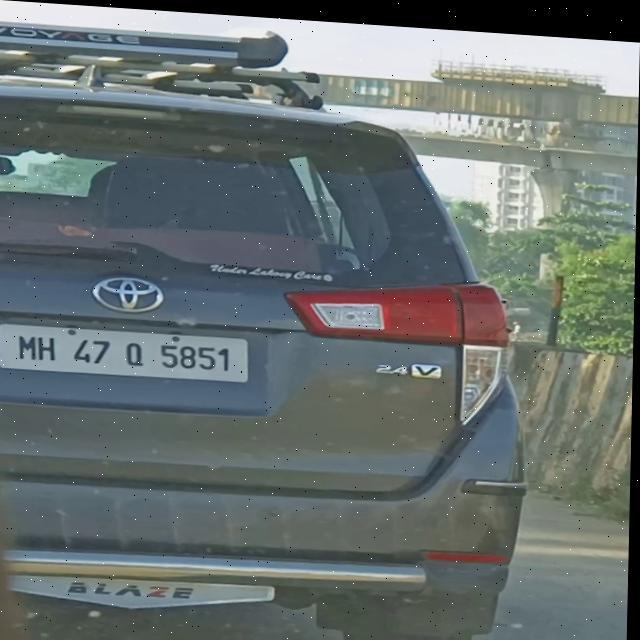plate: (1, 323, 253, 382)
